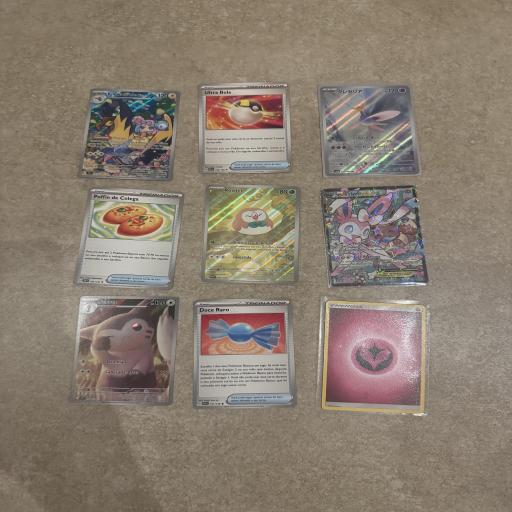card: (69, 294, 181, 406), (321, 300, 429, 414), (321, 181, 429, 293), (192, 298, 298, 409), (73, 186, 185, 290), (200, 184, 301, 285), (320, 80, 421, 180), (78, 86, 181, 182), (197, 81, 292, 175)
